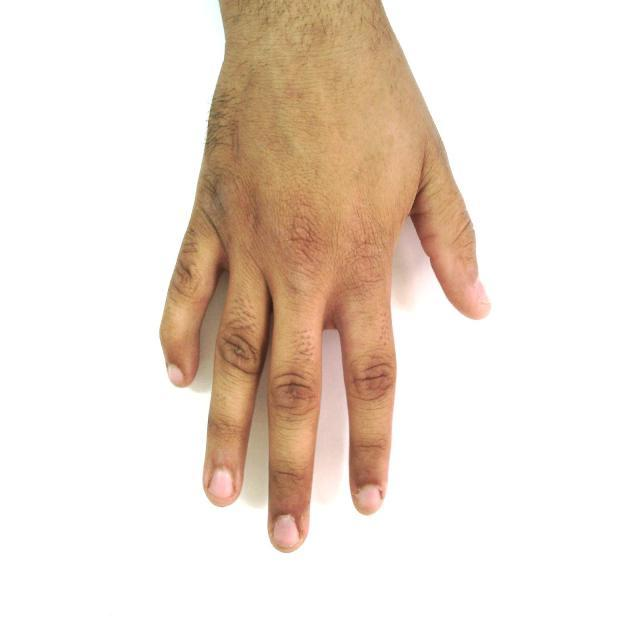Fingernail: (274, 515, 299, 547), (210, 468, 234, 498), (357, 486, 380, 515), (476, 281, 490, 307), (168, 364, 182, 383)
